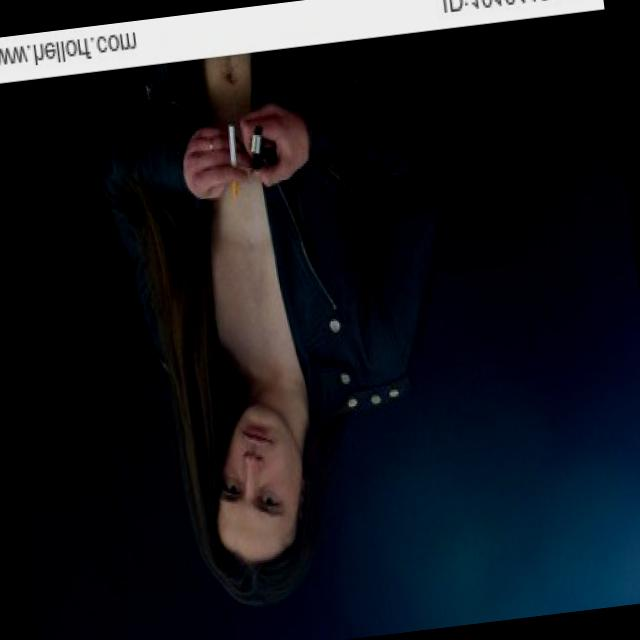cigarette: (218, 116, 248, 193)
